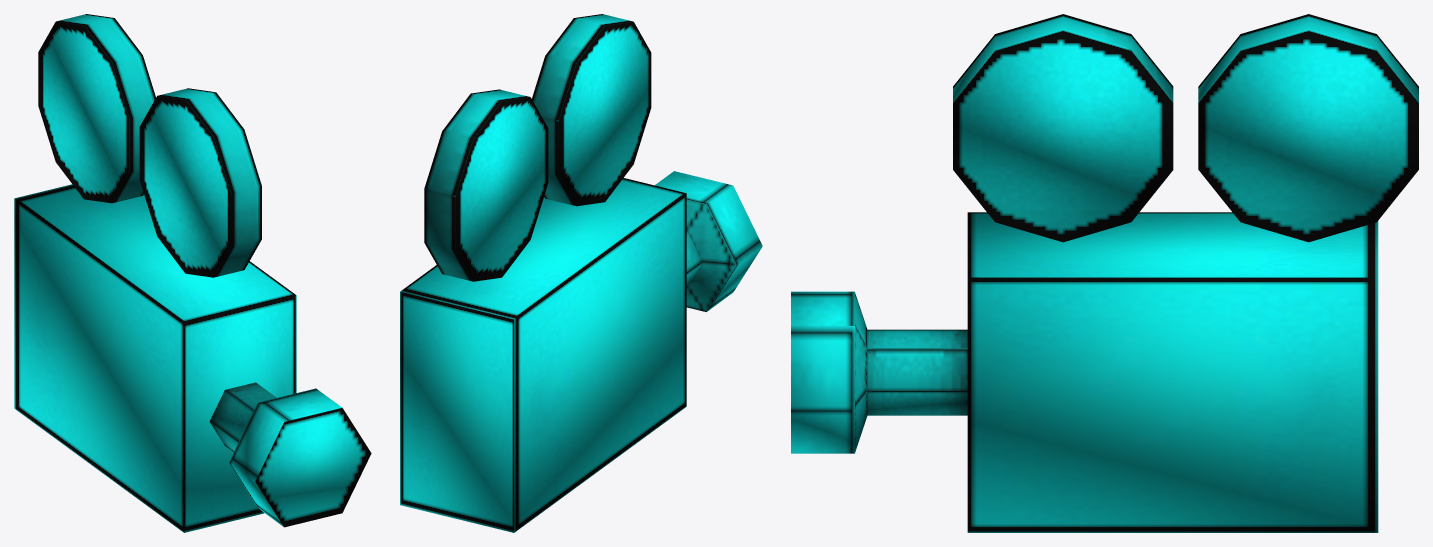
Rendered from camera.fbx.
The picture shows the model from 3 angles, left to right: view 1: azimuth 30°, elevation 25°; view 2: azimuth 150°, elevation 25°; view 3: azimuth 270°, elevation 25°; orthographic projection. The views are drawn at different scales.
Visible parts, largest first — view 1: camera_ref; view 2: camera_ref; view 3: camera_ref.
Part boxes in pixels (left/top/right/bottom): camera_ref: left=14, top=14, right=371, bottom=532; camera_ref: left=400, top=14, right=762, bottom=532; camera_ref: left=791, top=14, right=1418, bottom=532.
Size of the model in its own units: 35.33 by 114 by 136.
